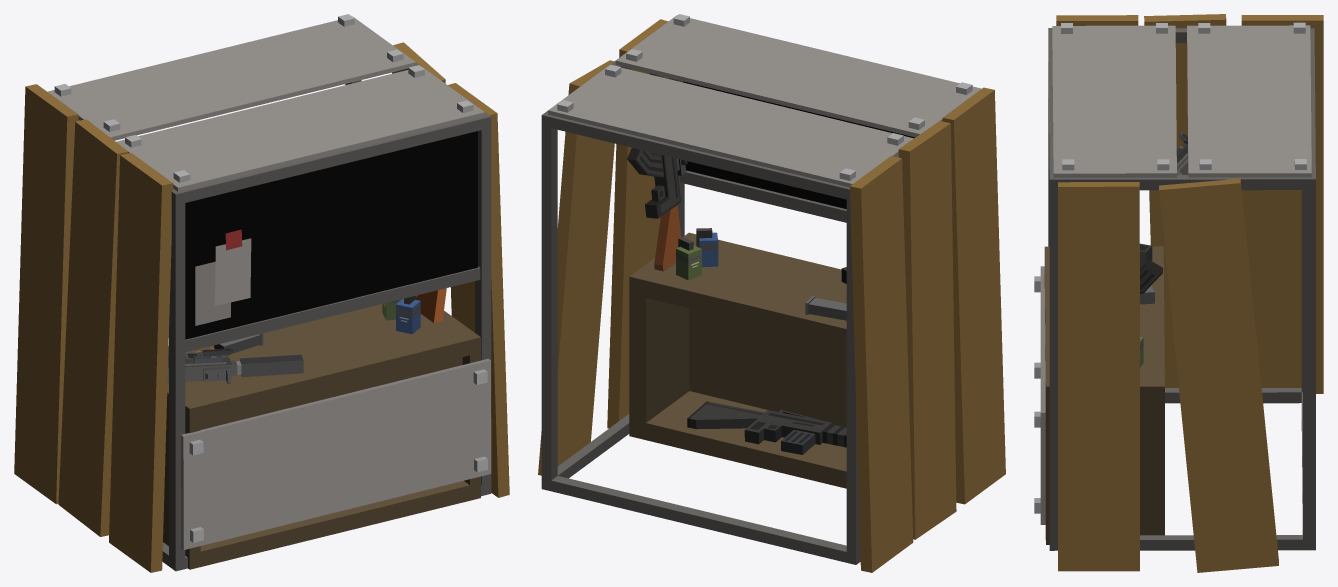
The model's file is AI_Prop_Shop_Guns.fbx.
The picture shows the model from 3 angles, left to right: view 1: azimuth 30°, elevation 25°; view 2: azimuth 150°, elevation 25°; view 3: azimuth 270°, elevation 25°; orthographic projection.
Visible parts, largest first — view 1: AI_Prop_Shop_Guns; view 2: AI_Prop_Shop_Guns; view 3: AI_Prop_Shop_Guns.
Boxes of the visible parts, x1=… form: AI_Prop_Shop_Guns: x1=14, y1=14, x2=509, y2=572; AI_Prop_Shop_Guns: x1=538, y1=14, x2=1005, y2=572; AI_Prop_Shop_Guns: x1=1034, y1=14, x2=1323, y2=572.
Bounding box in the file's own units: 3.44 × 3.64 × 2.43.
